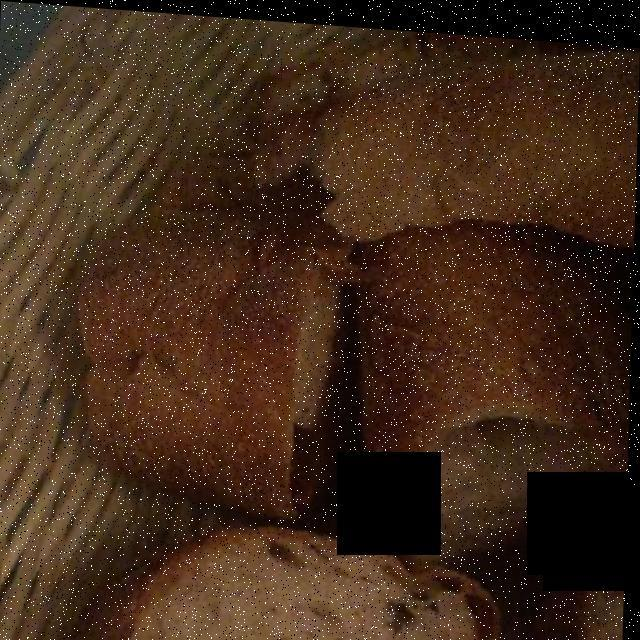bread: (67, 27, 634, 640)
